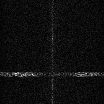wifi: (1, 71, 104, 76)
